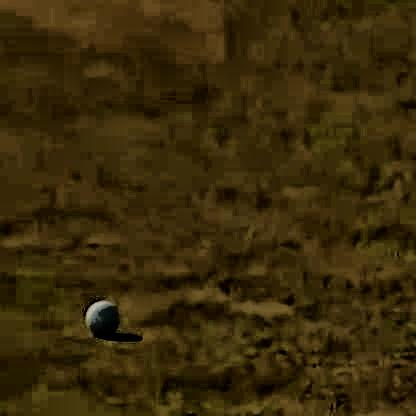golfball: (81, 291, 117, 333)
